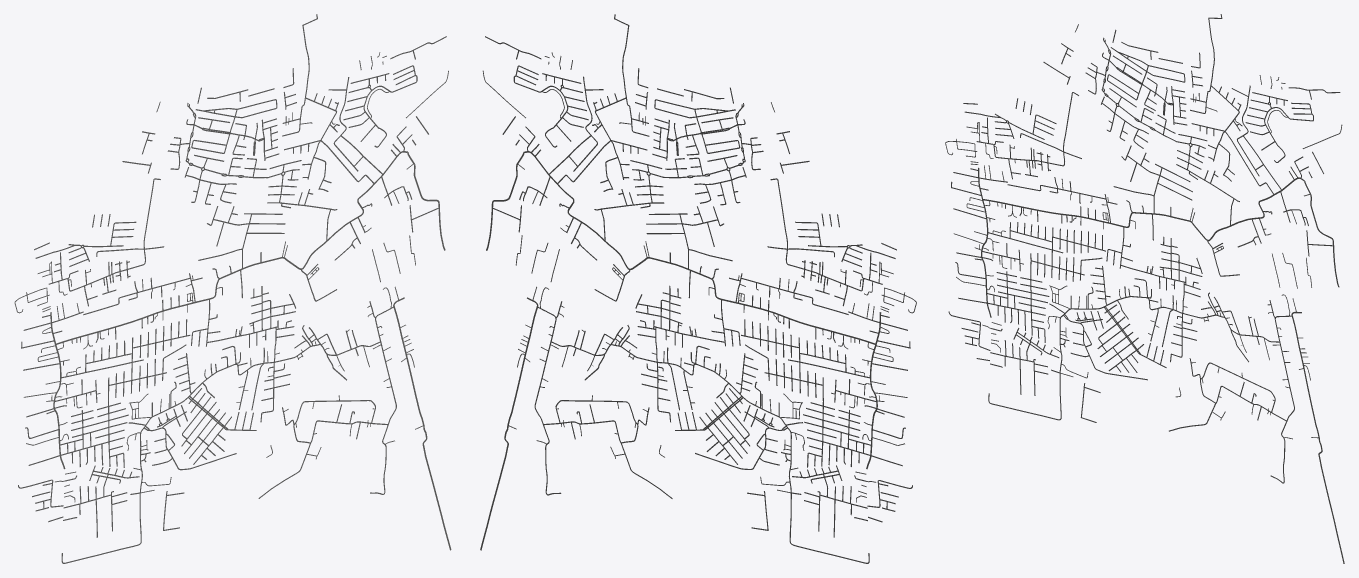
File: roads_0_2.obj
3 renders of one model, left to right at view 1: azimuth 30°, elevation 25°; view 2: azimuth 150°, elevation 25°; view 3: azimuth 330°, elevation 25°, orthographic. The views are drawn at different scales.
Size of the model in its own units: 2345 by 2919 by 6.3.
Materials: 3 (3 with a texture image).
